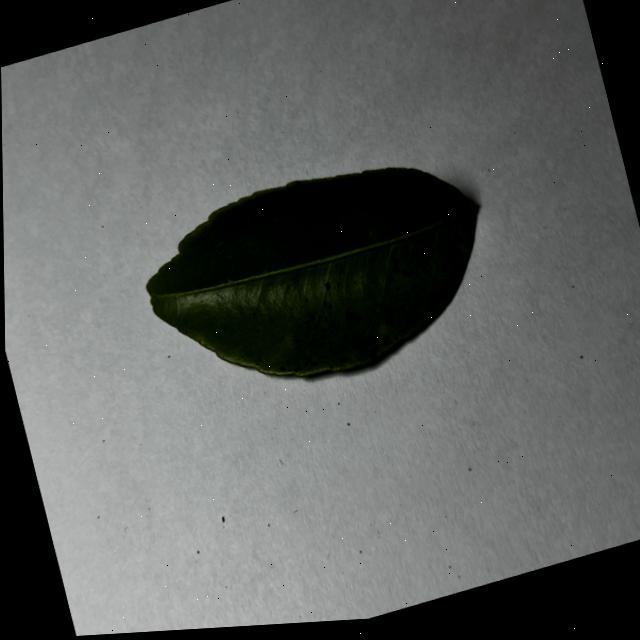sooty_mold: (145, 167, 474, 375)
